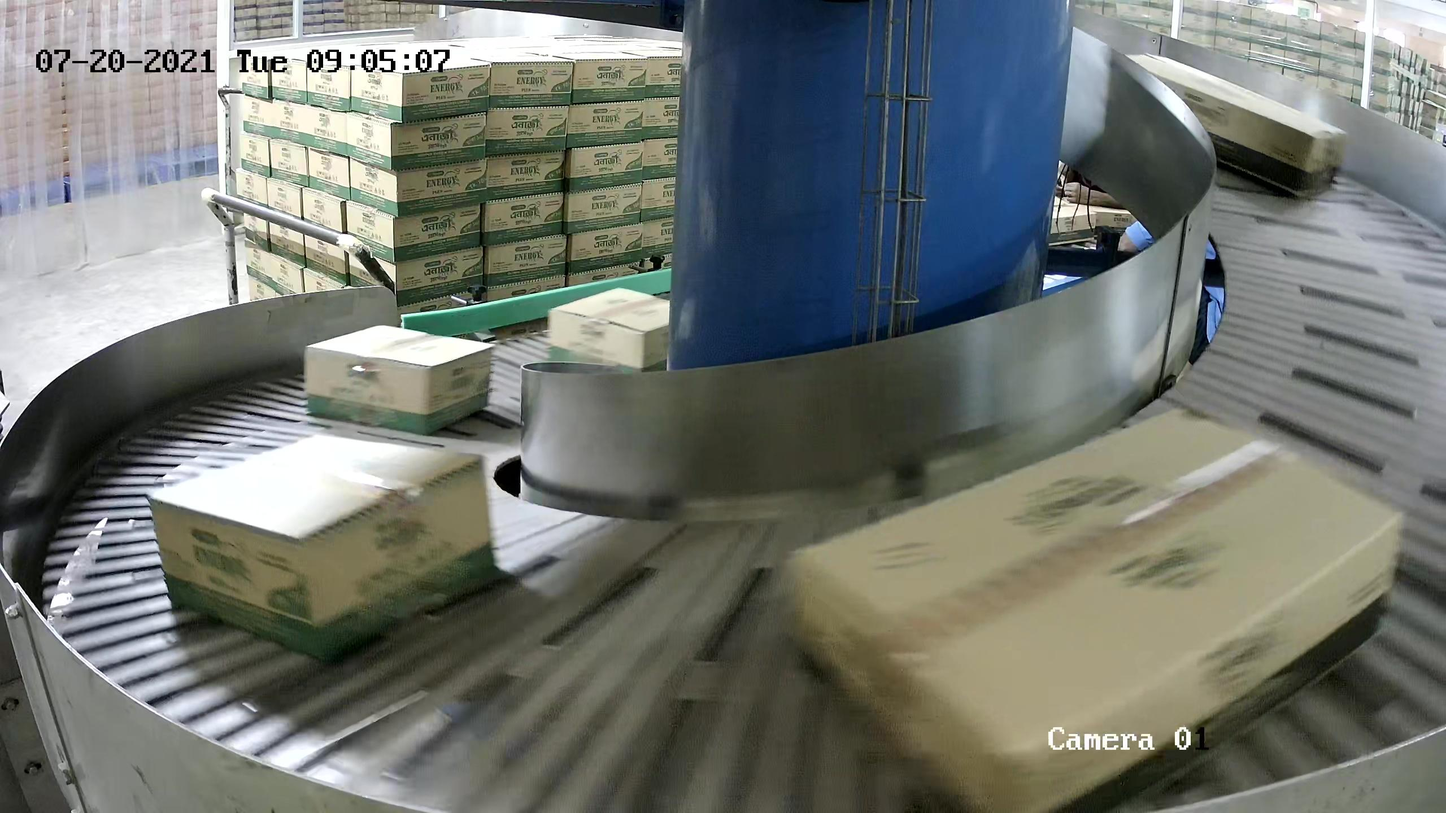Box: (785, 405, 1409, 813), (148, 433, 499, 664), (1115, 54, 1347, 198), (303, 323, 494, 437), (548, 287, 688, 390)
